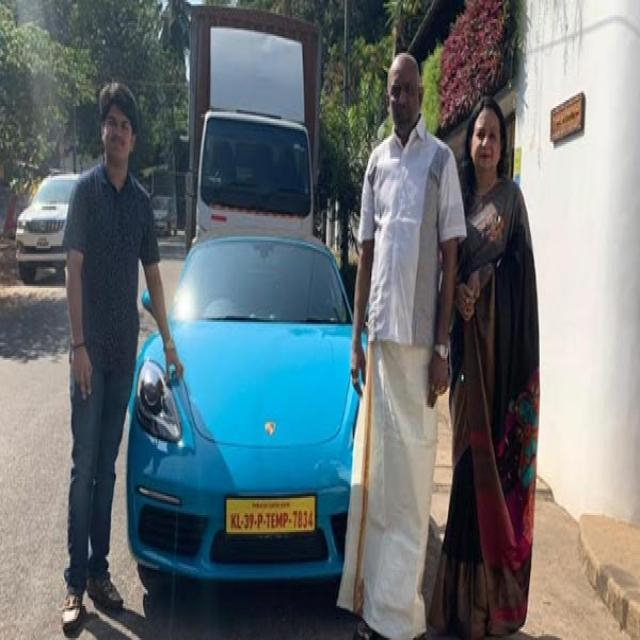license_plate: (225, 498, 318, 538)
